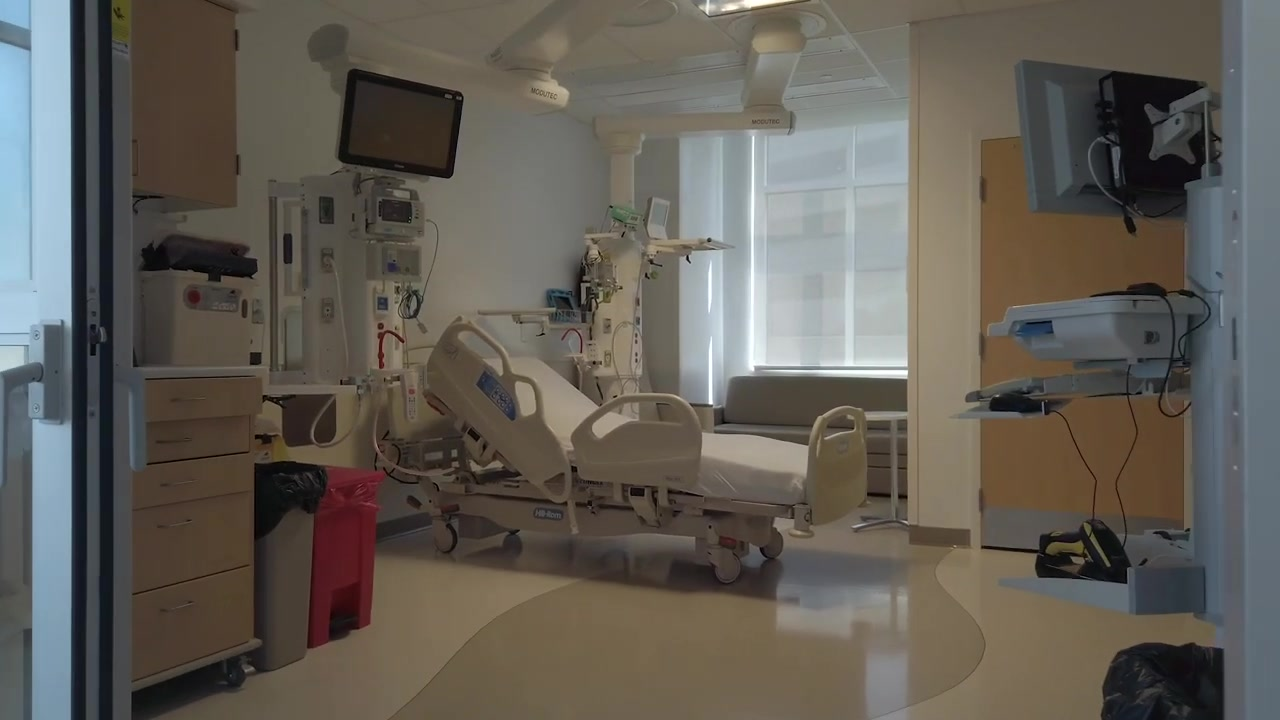bedrail: (423, 315, 572, 503), (570, 392, 702, 487)
bedside_monitor: (338, 68, 464, 178)
cabinet: (134, 5, 241, 205)
computer: (1013, 59, 1212, 221)
door_handle: (1, 361, 44, 490)
foot_board: (806, 405, 868, 526)
handle: (157, 598, 201, 613), (162, 475, 203, 490), (159, 517, 198, 531), (157, 433, 195, 447), (166, 394, 208, 405)
hospital_bed: (424, 314, 867, 585)
medical_drawer: (131, 364, 267, 695)
mouse: (988, 391, 1039, 414)
sofa: (715, 375, 910, 499)
table: (846, 410, 909, 533)
waste_bin: (309, 461, 387, 650), (253, 459, 315, 671), (1098, 642, 1223, 720)
